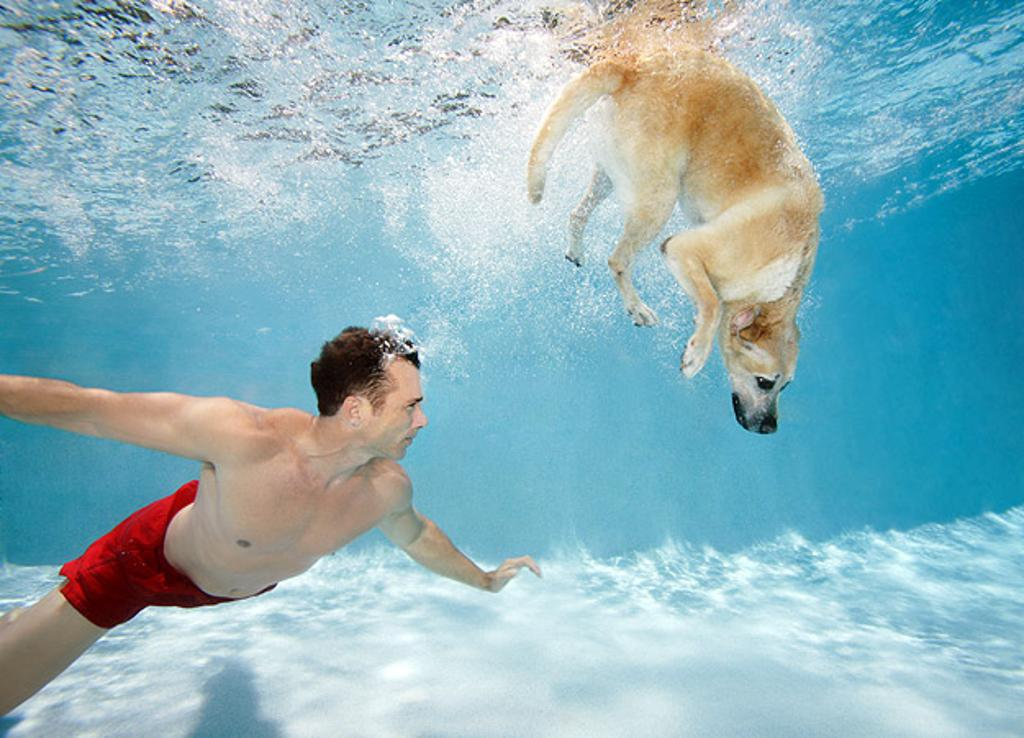face: (364, 360, 428, 456)
